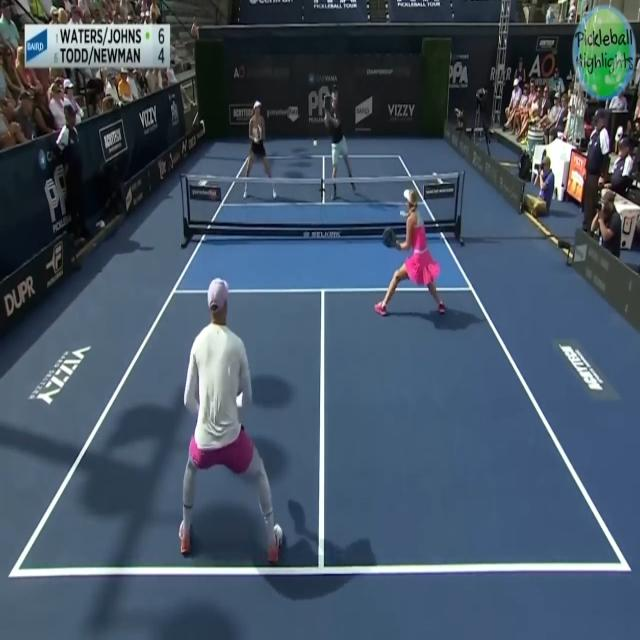Pickleball: (312, 139, 318, 149)
